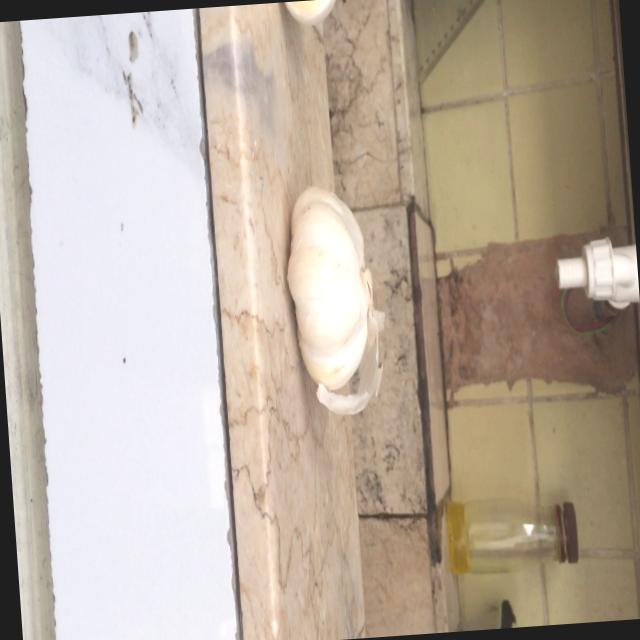garlic: (277, 178, 393, 420)
